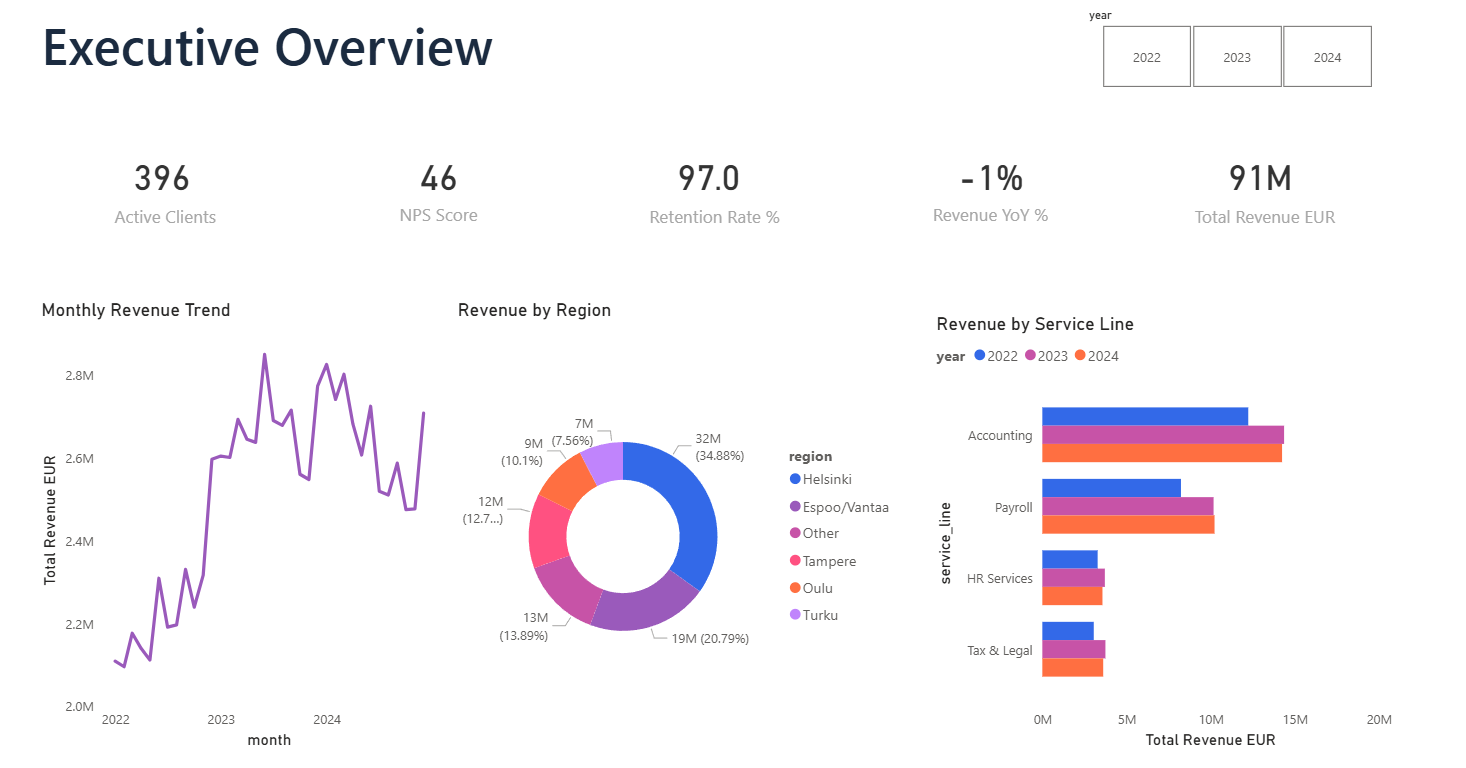

This screenshot's page, from the dashboard's own definition file:
{"tool":"powerbi","page":{"name":"Executive Overview","canvas":[1280,720],"ordinal":0},"visuals":[{"type":"advanceCardE03760C5AB684758B56AA29F9E6C257B","fields":{"mainMeasure":["_Measures.Active Clients"]},"box":[10,90.8,242.6,174.2],"z":0},{"type":"advanceCardE03760C5AB684758B56AA29F9E6C257B","fields":{"mainMeasure":["_Measures.NPS Score"]},"box":[264.7,90.8,242.6,174.2],"z":1000},{"type":"advanceCardE03760C5AB684758B56AA29F9E6C257B","fields":{"mainMeasure":["_Measures.Retention Rate %"]},"box":[519.4,90.8,250,174.2],"z":2000},{"type":"advanceCardE03760C5AB684758B56AA29F9E6C257B","fields":{"mainMeasure":["_Measures.Revenue YoY %"]},"box":[781.5,90.8,238.8,174.2],"z":3000},{"type":"advanceCardE03760C5AB684758B56AA29F9E6C257B","fields":{"mainMeasure":["_Measures.Total Revenue EUR"]},"box":[1032.5,90.8,247.5,174.2],"z":4000},{"type":"lineChart","title":"Monthly Revenue Trend","fields":{"Y":["_Measures.Total Revenue EUR"],"Category":["monthly_revenue.month"]},"box":[10.5,279.7,379.5,424.1],"z":5000},{"type":"donutChart","title":"Revenue by Region","fields":{"Category":["monthly_revenue.region"],"Y":["_Measures.Total Revenue EUR"]},"box":[399.2,279.7,421.5,424.1],"z":6000},{"type":"clusteredBarChart","title":"Revenue by Service Line","fields":{"Category":["monthly_revenue.service_line"],"Y":["_Measures.Total Revenue EUR"],"Series":["monthly_revenue.year"]},"box":[845.6,292.8,434.6,411],"z":7000},{"type":"textbox","box":[10,4.3,970,85.7],"z":8000},{"type":"slicer","fields":{"Values":["monthly_revenue.year"]},"box":[979.6,3.9,300.7,85.4],"z":9000}]}

Visuals, with their boxes on the page's 1280x720 design canvas (x1, y1, x2, y2). These are canvas units, not pixel positions in the 1466x768 screenshot, which may show the page scaled, cropped or inside an application window:
advanceCardE03760C5AB684758B56AA29F9E6C257B - _Measures.Active Clients: 10 91 253 265
advanceCardE03760C5AB684758B56AA29F9E6C257B - _Measures.NPS Score: 265 91 507 265
advanceCardE03760C5AB684758B56AA29F9E6C257B - _Measures.Retention Rate %: 519 91 769 265
advanceCardE03760C5AB684758B56AA29F9E6C257B - _Measures.Revenue YoY %: 782 91 1020 265
advanceCardE03760C5AB684758B56AA29F9E6C257B - _Measures.Total Revenue EUR: 1032 91 1280 265
"Monthly Revenue Trend" lineChart: 10 280 390 704
"Revenue by Region" donutChart: 399 280 821 704
"Revenue by Service Line" clusteredBarChart: 846 293 1280 704
textbox: 10 4 980 90
slicer - monthly_revenue.year: 980 4 1280 89
